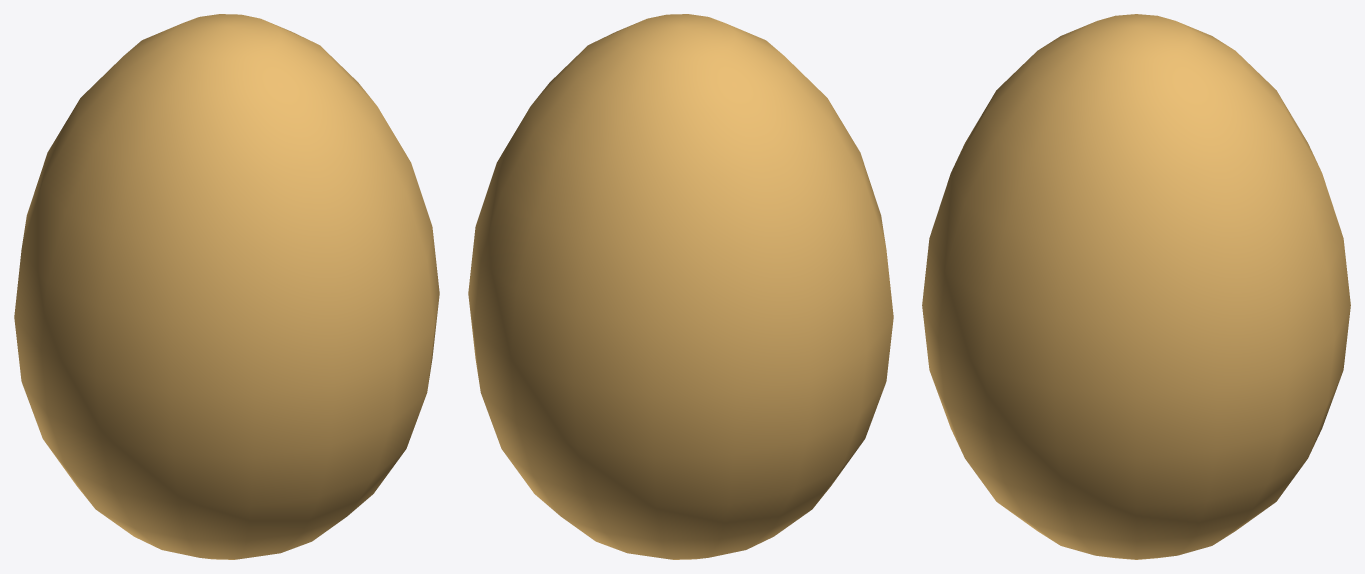
File: Eggv2.fbx
The picture shows the model from 3 angles, left to right: view 1: azimuth 30°, elevation 25°; view 2: azimuth 150°, elevation 25°; view 3: azimuth 270°, elevation 25°; orthographic projection.
Visible parts, largest first — view 1: egg; view 2: egg; view 3: egg.
Part boxes in pixels (<box>): egg: <box>14,14,439,559</box>; egg: <box>468,14,893,559</box>; egg: <box>922,14,1350,559</box>.
Size of the model in its own units: 0.914 by 1.22 by 0.914.
